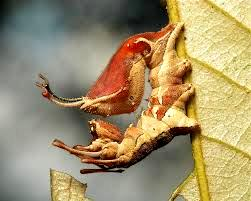Lobster Moth: (39, 19, 199, 181)
